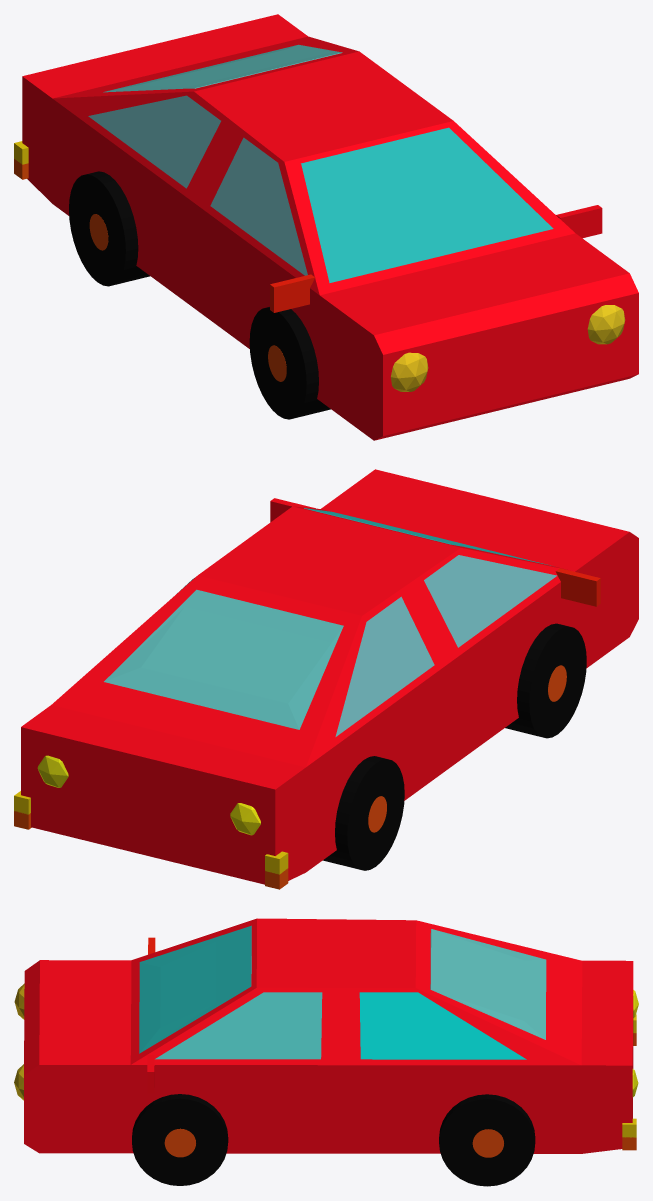
The model's file is car8.glb.
3 renders of one model, top to bottom at view 1: azimuth 30°, elevation 25°; view 2: azimuth 150°, elevation 25°; view 3: azimuth 270°, elevation 25°, orthographic. The views are drawn at different scales.
Visible parts, largest first — view 1: car8, Cube.001, Plane.002, Plane.003, Cylinder.003, Cylinder.002, Cube, Cube.002, Icosphere.001, Icosphere, Cube.004; view 2: car8, Cube, Plane.002, Plane.003, Cylinder.002, Cylinder.003, Cube.002, Cube.001, Icosphere.002, Icosphere.003; view 3: car8, Cube.001, Cube, Plane, Plane.001, Cylinder, Cylinder.001, Cylinder.005, Cylinder.004.
Part boxes in pixels (bbox=[...]): car8: bbox=[22, 14, 638, 440]; Cube.001: bbox=[301, 127, 553, 282]; Plane.002: bbox=[88, 95, 220, 188]; Plane.003: bbox=[210, 137, 307, 275]; Cylinder.003: bbox=[69, 171, 149, 286]; Cylinder.002: bbox=[249, 307, 330, 419]; Cube: bbox=[103, 44, 342, 92]; Cube.002: bbox=[270, 274, 315, 312]; Icosphere.001: bbox=[587, 305, 625, 344]; Icosphere: bbox=[390, 352, 428, 391]; Cube.004: bbox=[556, 205, 602, 238]; car8: bbox=[21, 469, 638, 884]; Cube: bbox=[104, 589, 343, 729]; Plane.002: bbox=[335, 596, 434, 736]; Plane.003: bbox=[424, 555, 556, 647]; Cylinder.002: bbox=[505, 623, 586, 738]; Cylinder.003: bbox=[323, 756, 404, 870]; Cube.002: bbox=[555, 568, 600, 606]; Cube.001: bbox=[304, 508, 550, 565]; Icosphere.002: bbox=[37, 755, 68, 787]; Icosphere.003: bbox=[230, 803, 260, 835]; car8: bbox=[24, 918, 633, 1153]; Cube.001: bbox=[139, 925, 251, 1053]; Cube: bbox=[430, 929, 546, 1039]; Plane: bbox=[155, 992, 322, 1059]; Plane.001: bbox=[359, 992, 526, 1059]; Cylinder: bbox=[439, 1094, 535, 1186]; Cylinder.001: bbox=[132, 1094, 228, 1185]; Cylinder.005: bbox=[472, 1129, 503, 1157]; Cylinder.004: bbox=[164, 1128, 195, 1157].
Size of the model in its own units: 12.24 by 7.42 by 24.1.
